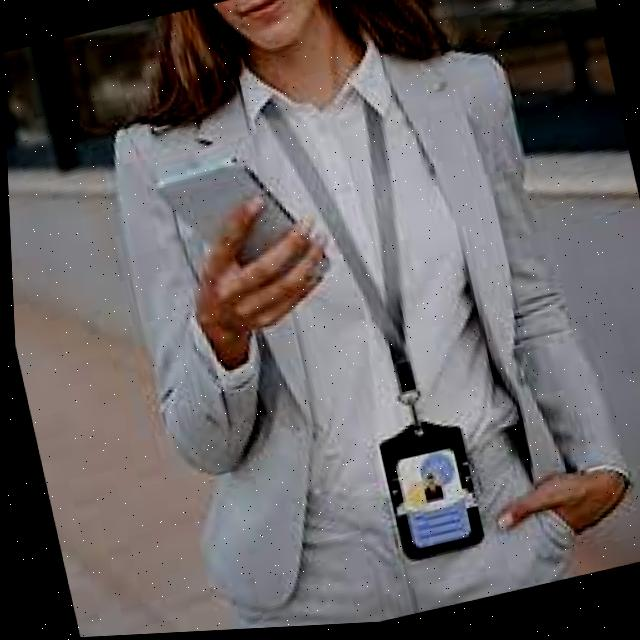id_card: (253, 74, 508, 578)
